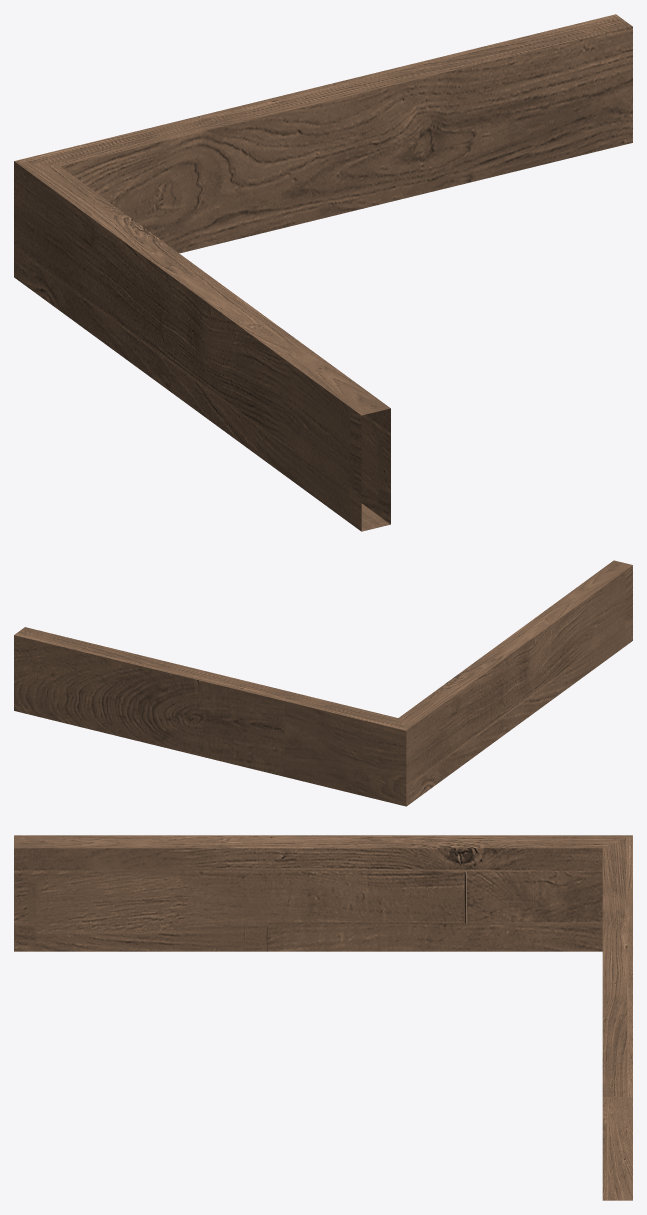
The model's file is FloorlineInt-Corner.fbx.
The picture shows the model from 3 angles, top to bottom: view 1: azimuth 30°, elevation 25°; view 2: azimuth 150°, elevation 25°; view 3: azimuth 270°, elevation 25°; orthographic projection. The views are drawn at different scales.
Visible parts, largest first — view 1: FloorlineInt-Corner; view 2: FloorlineInt-Corner; view 3: FloorlineInt-Corner.
Boxes of the visible parts, left/top/right/bottom form: FloorlineInt-Corner: left=14, top=14, right=632, bottom=531; FloorlineInt-Corner: left=14, top=560, right=632, bottom=806; FloorlineInt-Corner: left=14, top=835, right=632, bottom=1200.
Bounding box in the file's own units: 205 × 37.8 × 205.
